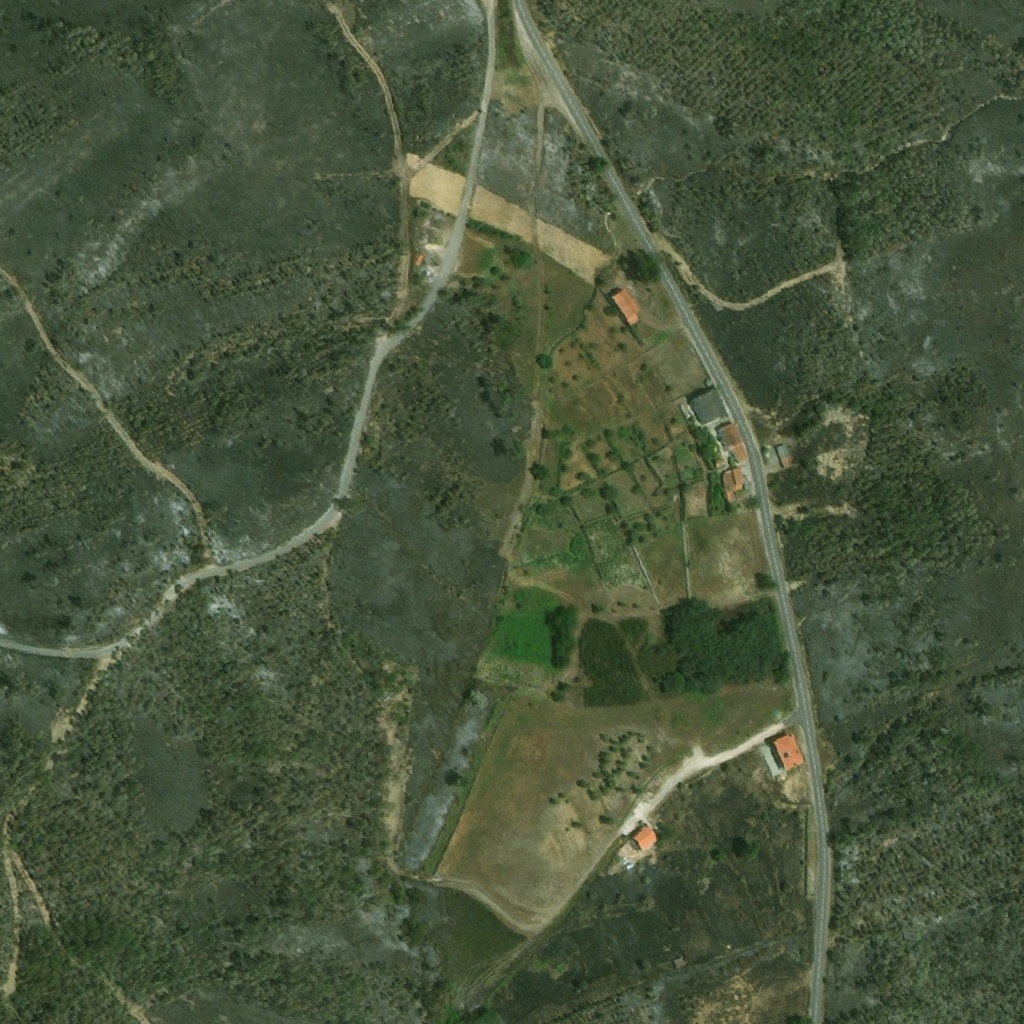0 no-damage: (689, 385, 731, 425), (718, 421, 749, 465), (771, 732, 805, 769), (611, 288, 640, 325), (724, 466, 745, 505), (774, 444, 793, 467), (716, 454, 730, 474)
2 major-damage: (619, 828, 653, 858)
